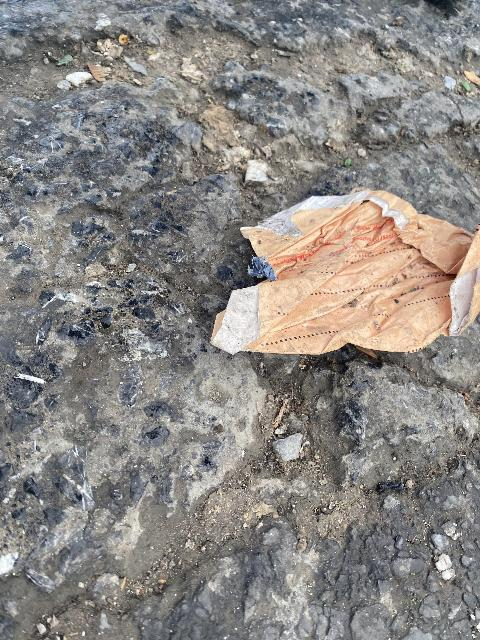Kagit: (210, 190, 480, 358)
